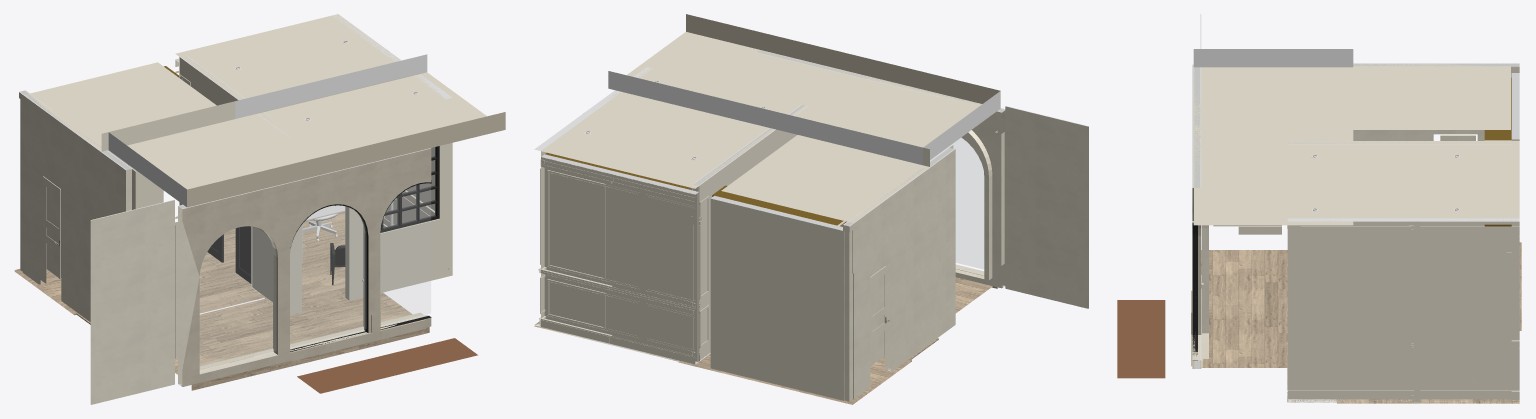
Rendered from office-east-9eb1306ca45a.glb.
3 views of the same model, side by side, from view 1: azimuth 30°, elevation 25°; view 2: azimuth 150°, elevation 25°; view 3: azimuth 270°, elevation 25° (orthographic). The views are drawn at different scales.
Visible parts, largest first — view 1: office-east-look-dbd60ee5c3733ed6, office-east-look-c9e78b9ec1bb39cd, office-east-look-d5a4a1b5d3594c04, office-east-look-6a051330000fbca1, office-east-look-2575515a05775d9e, office-east-2575515a05775d9e, office-east-look-38561c12898e4d43, office-east-look-c02a36d0521470a9, office-east-look-c374268555806af8, office-east-7dc307bfa7ee071d, office-east-look-5cbcc744e6f960f3, office-east-dbd60ee5c3733ed6 (+15 smaller); view 2: office-east-look-dbd60ee5c3733ed6, office-east-look-19647d6da46c2b80, office-east-19647d6da46c2b80, office-east-look-6a051330000fbca1, office-east-look-d5a4a1b5d3594c04, office-east-2575515a05775d9e, office-east-look-2575515a05775d9e, office-east-72f8f5982ac3dc36, office-east-look-38561c12898e4d43, office-east-look-c9e78b9ec1bb39cd, office-east-dbd60ee5c3733ed6, office-east-look-1109284a531c9f8c (+16 smaller); view 3: office-east-6a1144f4e43410bb, office-east-look-dbd60ee5c3733ed6, office-east-2575515a05775d9e, office-east-look-2575515a05775d9e, office-east-look-c374268555806af8, office-east-dbd60ee5c3733ed6, office-east-look-aee2d046b0172b1e, office-east-2c29ddcb8551cb02, office-east-7dc307bfa7ee071d, office-east-look-c9e78b9ec1bb39cd, office-east-e54d813e60c9e7c4, office-east-look-6a051330000fbca1 (+13 smaller).
Part boxes in pixels (<box>): office-east-look-dbd60ee5c3733ed6: <box>108,54,505,207</box>; office-east-look-c9e78b9ec1bb39cd: <box>178,148,431,386</box>; office-east-look-d5a4a1b5d3594c04: <box>90,199,174,404</box>; office-east-look-6a051330000fbca1: <box>19,90,136,321</box>; office-east-look-2575515a05775d9e: <box>24,62,235,151</box>; office-east-2575515a05775d9e: <box>175,14,420,113</box>; office-east-look-38561c12898e4d43: <box>200,226,276,369</box>; office-east-look-c02a36d0521470a9: <box>290,205,366,347</box>; office-east-look-c374268555806af8: <box>175,292,429,390</box>; office-east-7dc307bfa7ee071d: <box>293,97,445,313</box>; office-east-look-5cbcc744e6f960f3: <box>380,183,430,324</box>; office-east-dbd60ee5c3733ed6: <box>264,74,445,137</box>; office-east-look-dbd60ee5c3733ed6: <box>608,14,1000,165</box>; office-east-look-19647d6da46c2b80: <box>710,195,842,400</box>; office-east-19647d6da46c2b80: <box>541,154,698,364</box>; office-east-look-6a051330000fbca1: <box>843,144,955,401</box>; office-east-look-d5a4a1b5d3594c04: <box>1005,106,1088,308</box>; office-east-2575515a05775d9e: <box>541,91,774,188</box>; office-east-look-2575515a05775d9e: <box>721,135,929,222</box>; office-east-72f8f5982ac3dc36: <box>692,104,807,361</box>; office-east-look-38561c12898e4d43: <box>930,138,983,269</box>; office-east-look-c9e78b9ec1bb39cd: <box>756,50,1005,288</box>; office-east-dbd60ee5c3733ed6: <box>615,67,793,129</box>; office-east-look-1109284a531c9f8c: <box>955,130,992,280</box>; office-east-6a1144f4e43410bb: <box>1287,218,1519,402</box>; office-east-look-dbd60ee5c3733ed6: <box>1193,49,1353,225</box>; office-east-2575515a05775d9e: <box>1353,141,1519,221</box>; office-east-look-2575515a05775d9e: <box>1353,63,1510,129</box>; office-east-look-c374268555806af8: <box>1201,250,1287,367</box>; office-east-dbd60ee5c3733ed6: <box>1287,141,1353,221</box>; office-east-look-aee2d046b0172b1e: <box>1117,300,1165,378</box>; office-east-2c29ddcb8551cb02: <box>1287,390,1519,399</box>; office-east-7dc307bfa7ee071d: <box>1287,144,1295,390</box>; office-east-look-c9e78b9ec1bb39cd: <box>1192,64,1201,368</box>; office-east-e54d813e60c9e7c4: <box>1300,226,1519,234</box>; office-east-look-6a051330000fbca1: <box>1353,63,1519,140</box>.
Size of the model in its own units: 7.25 by 3.4 by 6.07.
Materials: 24 (4 with a texture image).
